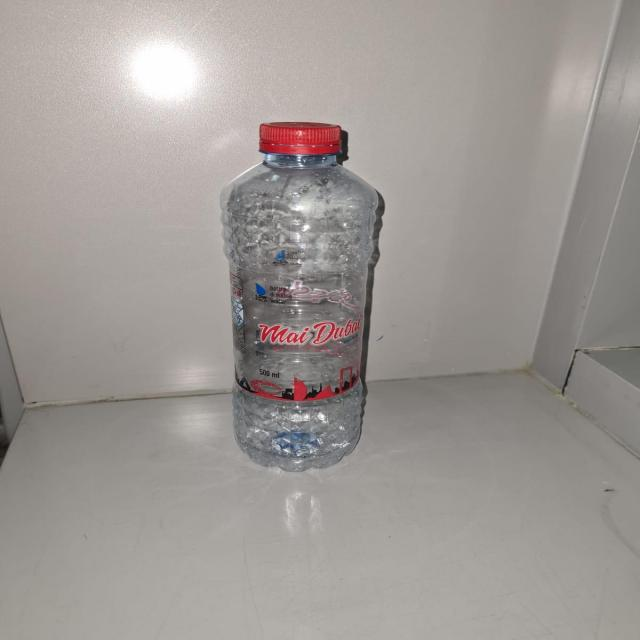bottle: (204, 106, 395, 492)
